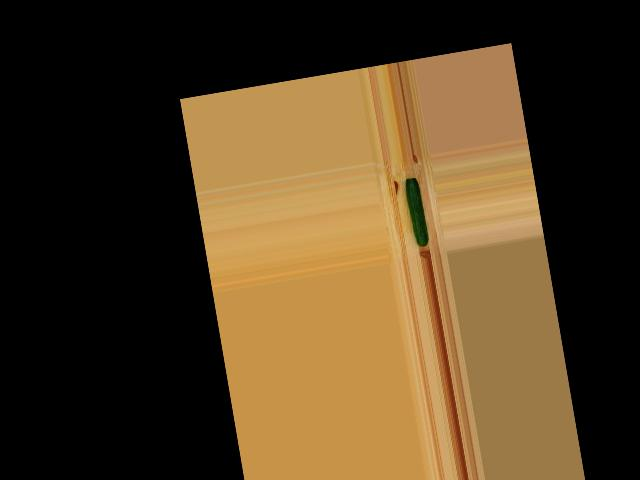cucumber: (404, 177, 429, 248)
